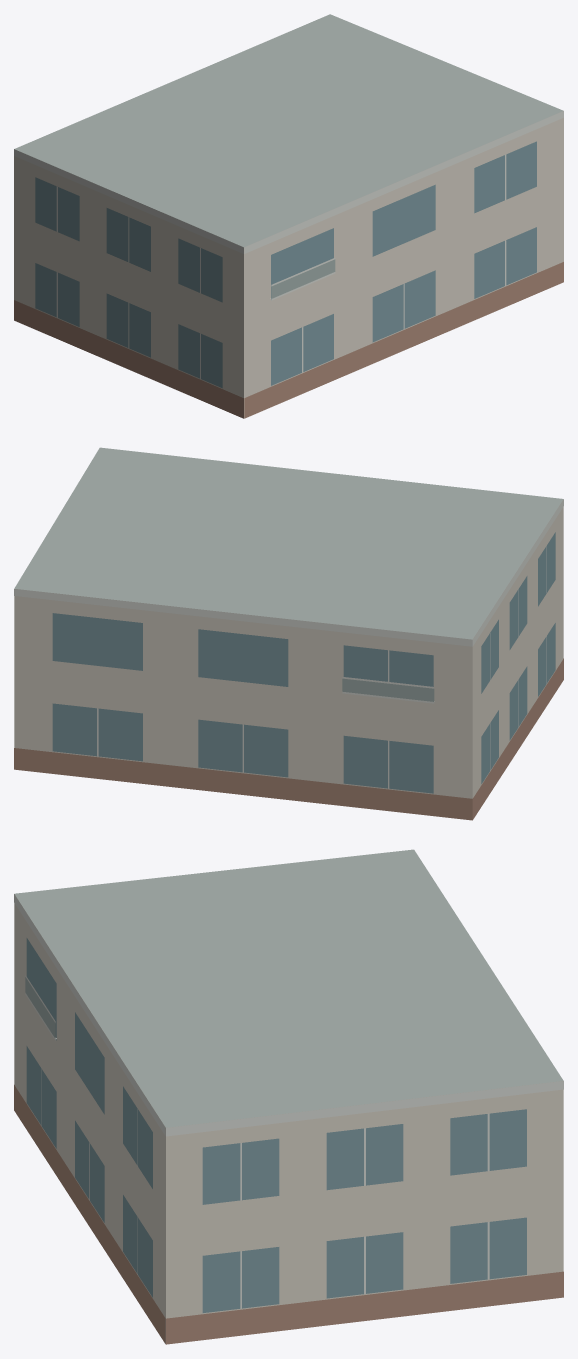
Rendered from survey-upis-32704126.glb.
3 views of the same model, one above another, from view 1: azimuth 30°, elevation 25°; view 2: azimuth 150°, elevation 25°; view 3: azimuth 270°, elevation 25° (orthographic). The views are drawn at different scales.
Parts seen in each view (by area): view 1: survey-upis-32704126.tmp; view 2: survey-upis-32704126.tmp; view 3: survey-upis-32704126.tmp.
Part boxes in pixels (x1,y1,x2,y2): survey-upis-32704126.tmp: (14, 14, 563, 418); survey-upis-32704126.tmp: (14, 447, 563, 820); survey-upis-32704126.tmp: (14, 849, 563, 1344).
Size of the model in its own units: 16.83 by 6.1 by 14.04.
